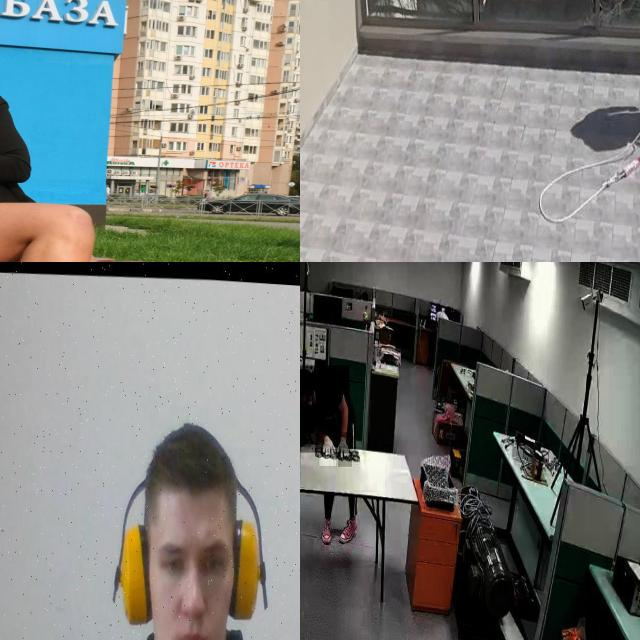Ear-protection: (114, 417, 272, 640)
No_Glasses: (155, 530, 232, 591)
hand_glove: (319, 432, 336, 467), (338, 432, 352, 468)
head_nohelmet: (300, 368, 307, 385)
person: (300, 365, 350, 453)
shoes: (339, 515, 358, 548), (320, 518, 334, 548)
